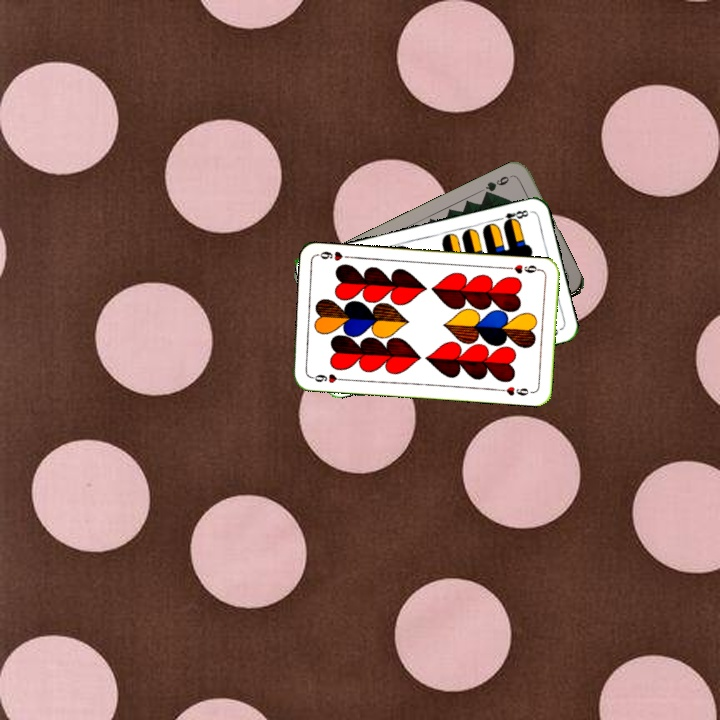E8: (493, 206, 531, 228)
G9: (480, 170, 516, 199)
H9: (503, 260, 544, 276), (307, 370, 347, 386)
